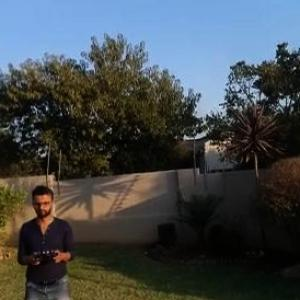follow: (12, 179, 80, 299)
